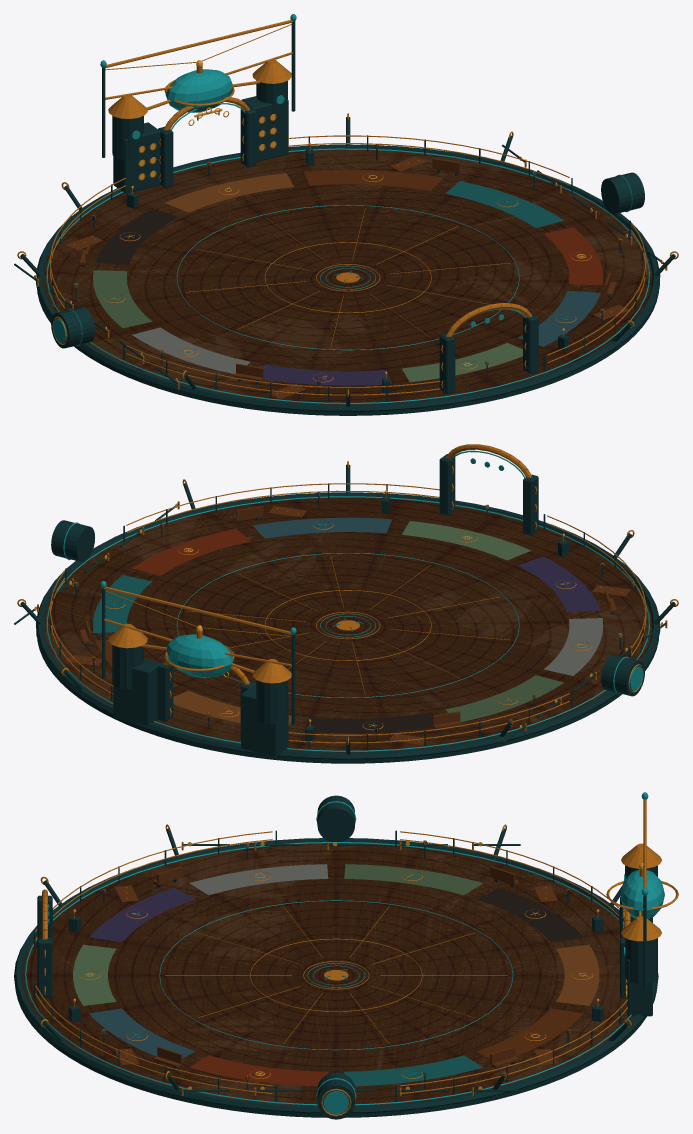
Rendered from ark-plaza-e10.glb.
3 views of the same model, one above another, from view 1: azimuth 30°, elevation 25°; view 2: azimuth 150°, elevation 25°; view 3: azimuth 270°, elevation 25° (orthographic). The views are drawn at different scales.
Parts seen in each view (by area): view 1: ArkPlazaE10; view 2: ArkPlazaE10; view 3: ArkPlazaE10.
Part boxes in pixels (x1,y1,x2,y2): ArkPlazaE10: (14,14,678,415); ArkPlazaE10: (14,444,678,763); ArkPlazaE10: (14,792,678,1119).
Size of the model in its own units: 49.26 by 11.2 by 47.6.
1 material, 1 textured.
